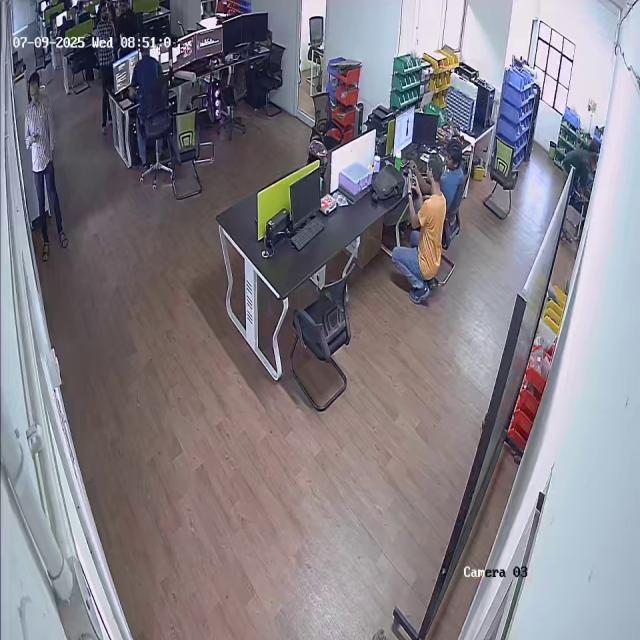person: (17, 71, 71, 262), (397, 153, 448, 305), (92, 3, 115, 131)
